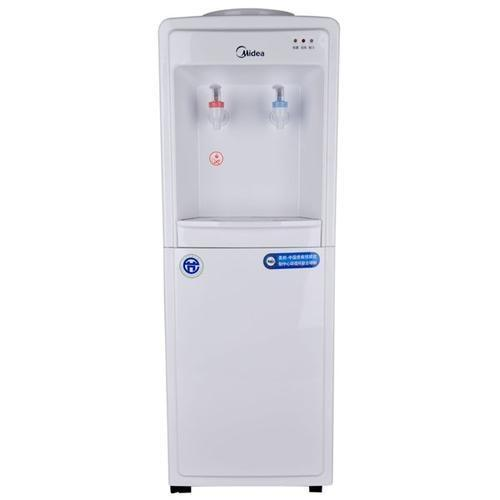Dispenser: (158, 6, 340, 248)
